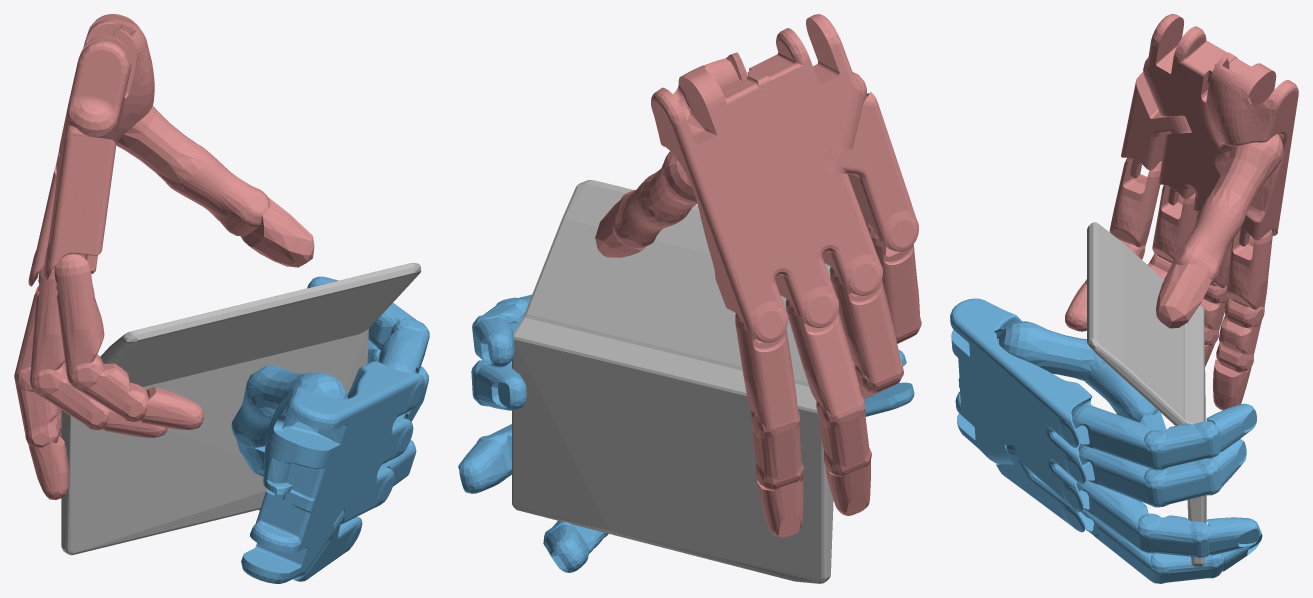
File: VideoGameController_mesh.glb
The picture shows the model from 3 angles, left to right: view 1: azimuth 30°, elevation 25°; view 2: azimuth 150°, elevation 25°; view 3: azimuth 270°, elevation 25°; orthographic projection. The views are drawn at different scales.
Visible parts, largest first — view 1: geom_2, geom_0, geom_1; view 2: geom_2, geom_0, geom_1; view 3: geom_1, geom_2, geom_0.
Boxes of the visible parts, x1,y1,x2,y2 form: geom_2: (14,14,314,499); geom_0: (61,263,421,555); geom_1: (231,276,429,583); geom_2: (595,14,921,537); geom_0: (512,180,833,583); geom_1: (458,294,914,572); geom_1: (950,298,1262,583); geom_2: (1065,14,1298,410); geom_0: (1087,222,1206,566).
Size of the model in its own units: 0.1907 by 0.2611 by 0.1742.
